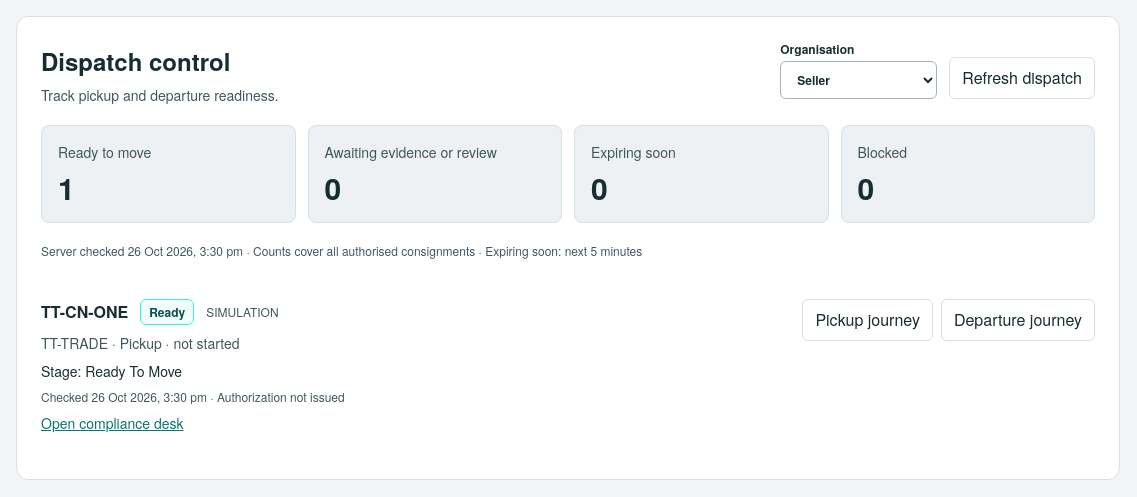
Scenario: clears ready state if a refresh hangs and times out
Expected: the heading "TT-CN-ONE" is shown, [41,300,128,324]
Click the button "Refresh dispatch" at coordinates (1022, 78), box [949,57,1095,99]
Wait 20000 ms
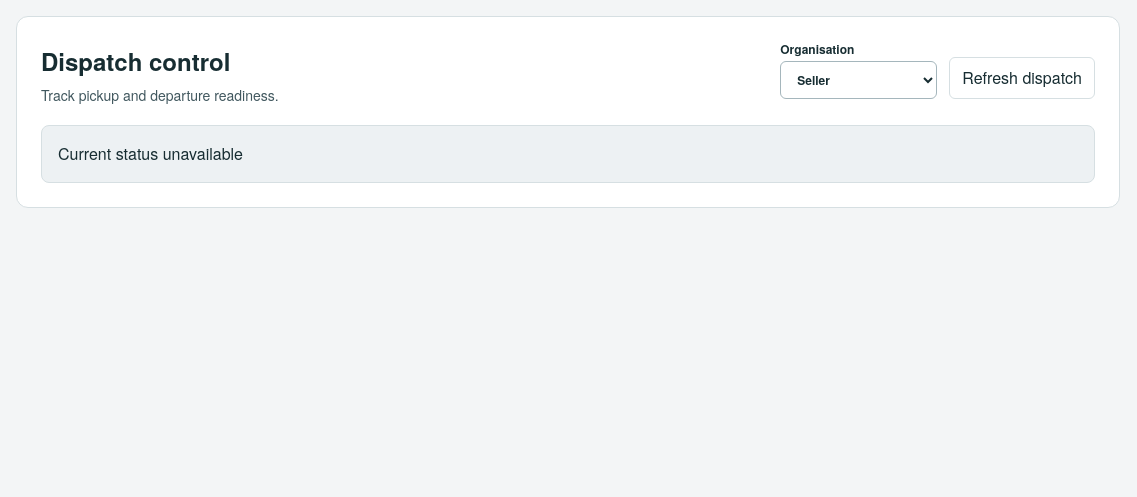
Now the text "Current status unavailable" is shown, box [41,125,1095,183]
